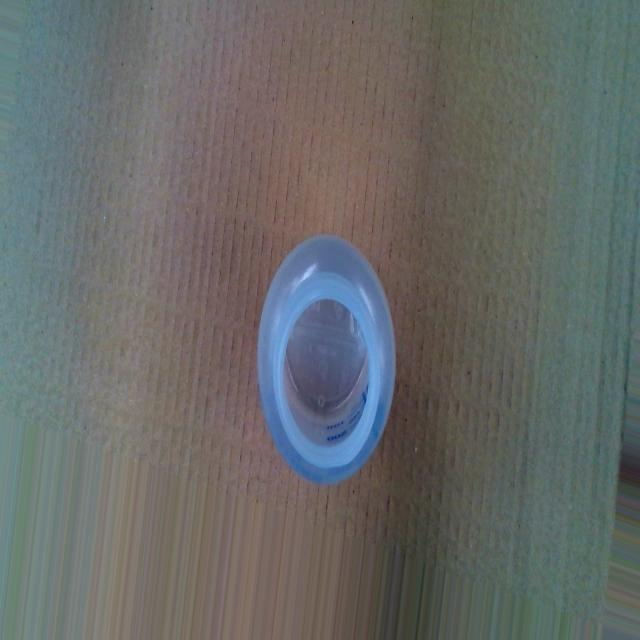bottle: (253, 232, 399, 496)
